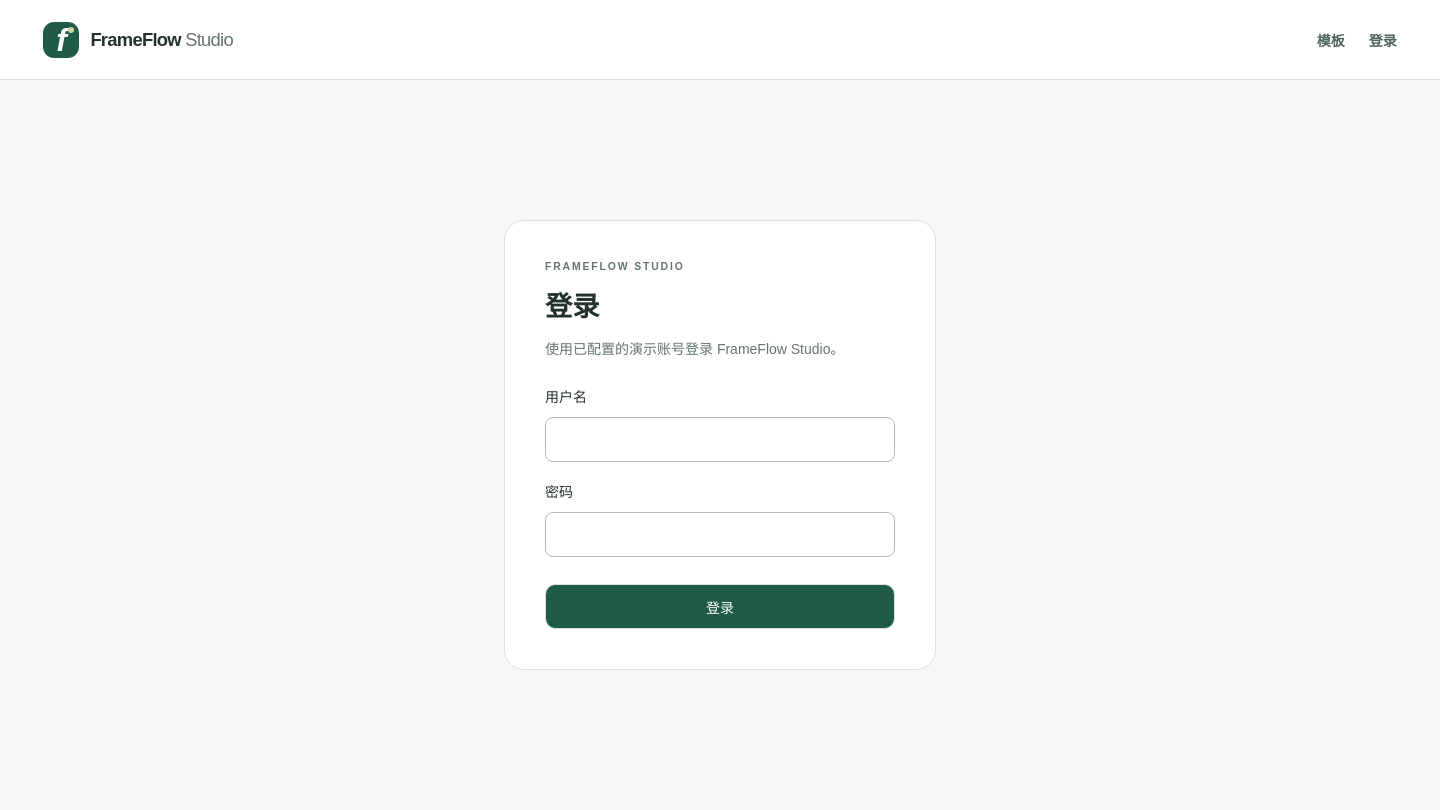
Test case: renders labelled login fields, serializes encoded credentials, clears password, and shows account/logout
Expected: the button "登录" is enabled, [545,584,895,629]
Type "demo-a" into the field labelled "用户名" at (720, 440), box [545,417,895,462]
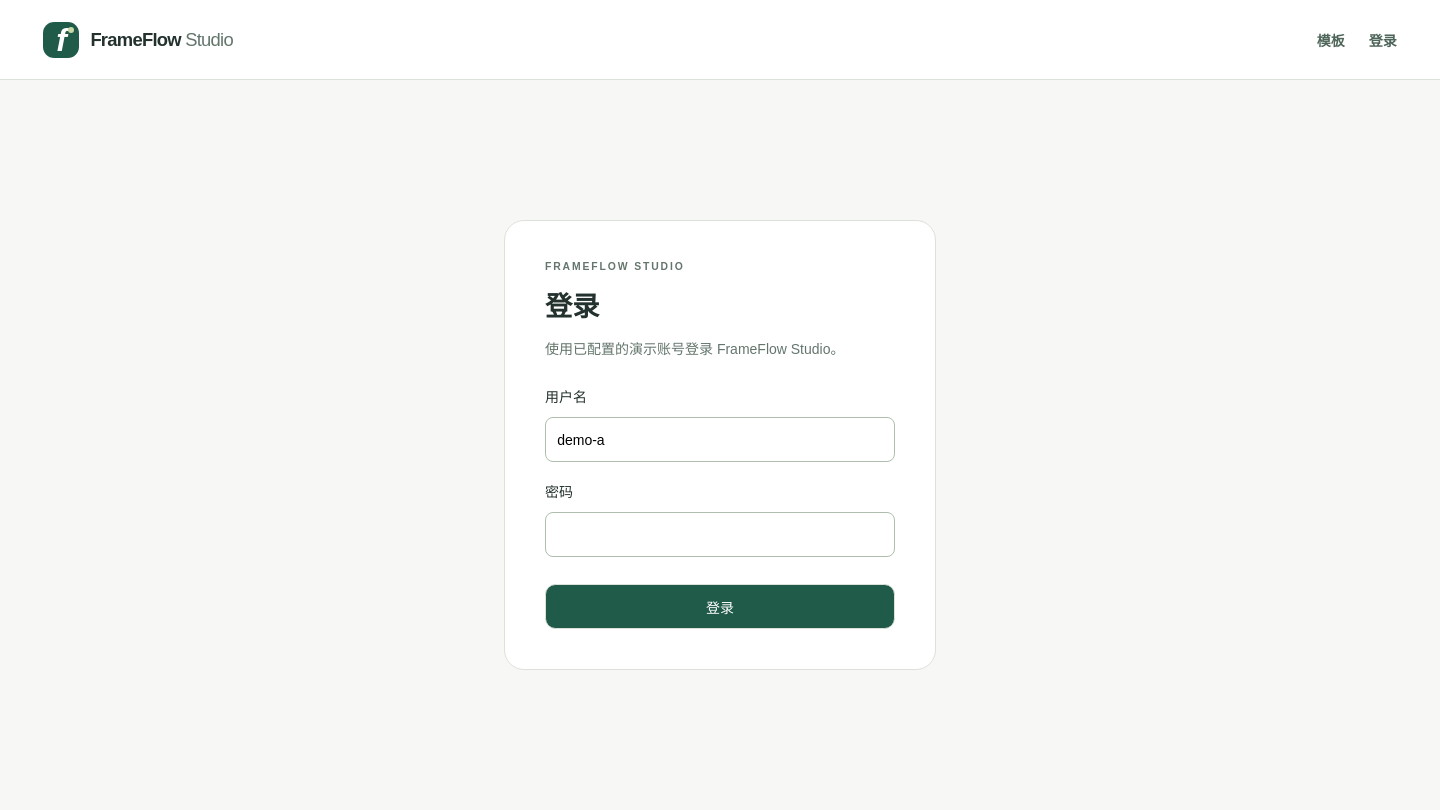
Type "测试 +& password" into the password field labelled "密码" at (720, 535), box [545,512,895,557]
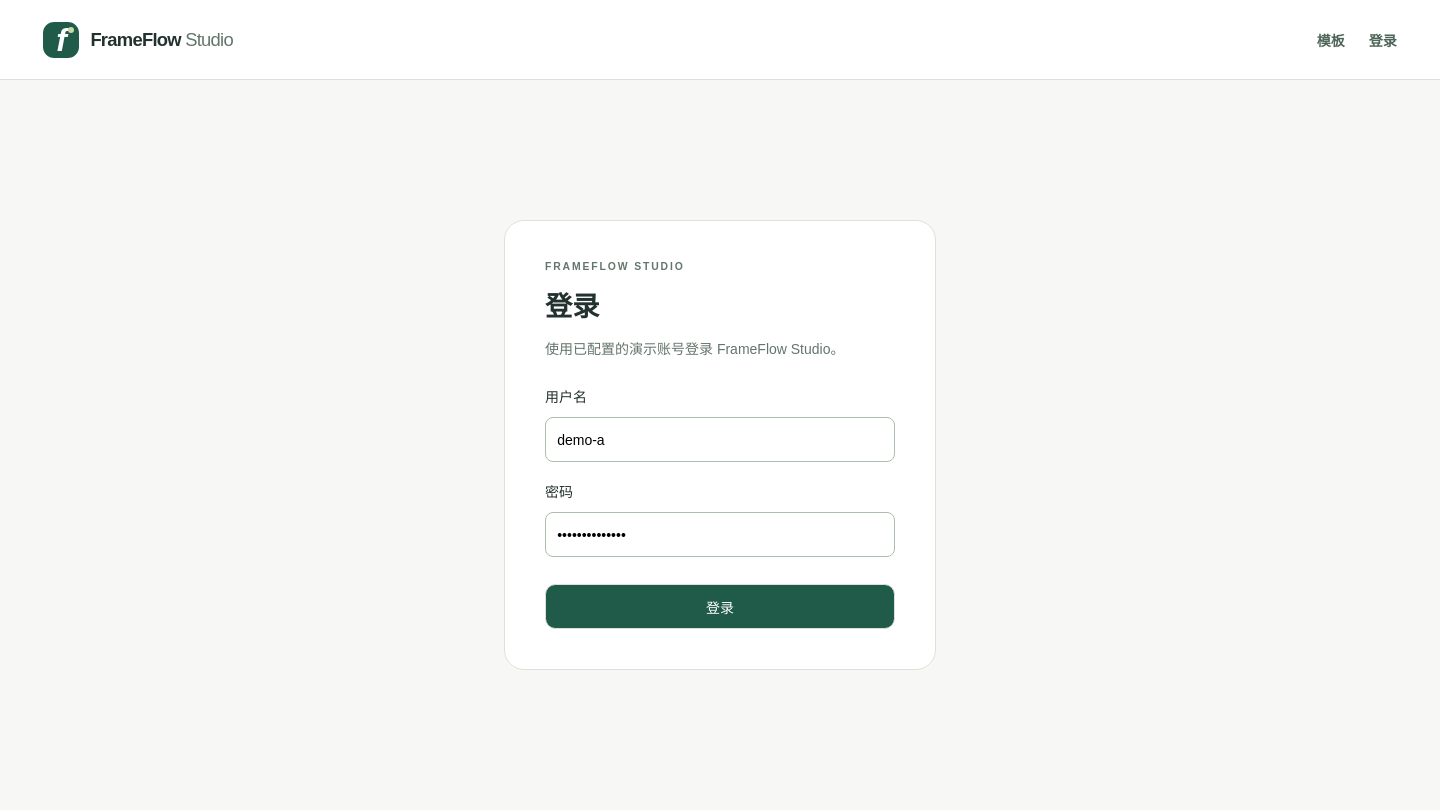
Click the button "登录" at (720, 607), box [545,584,895,629]
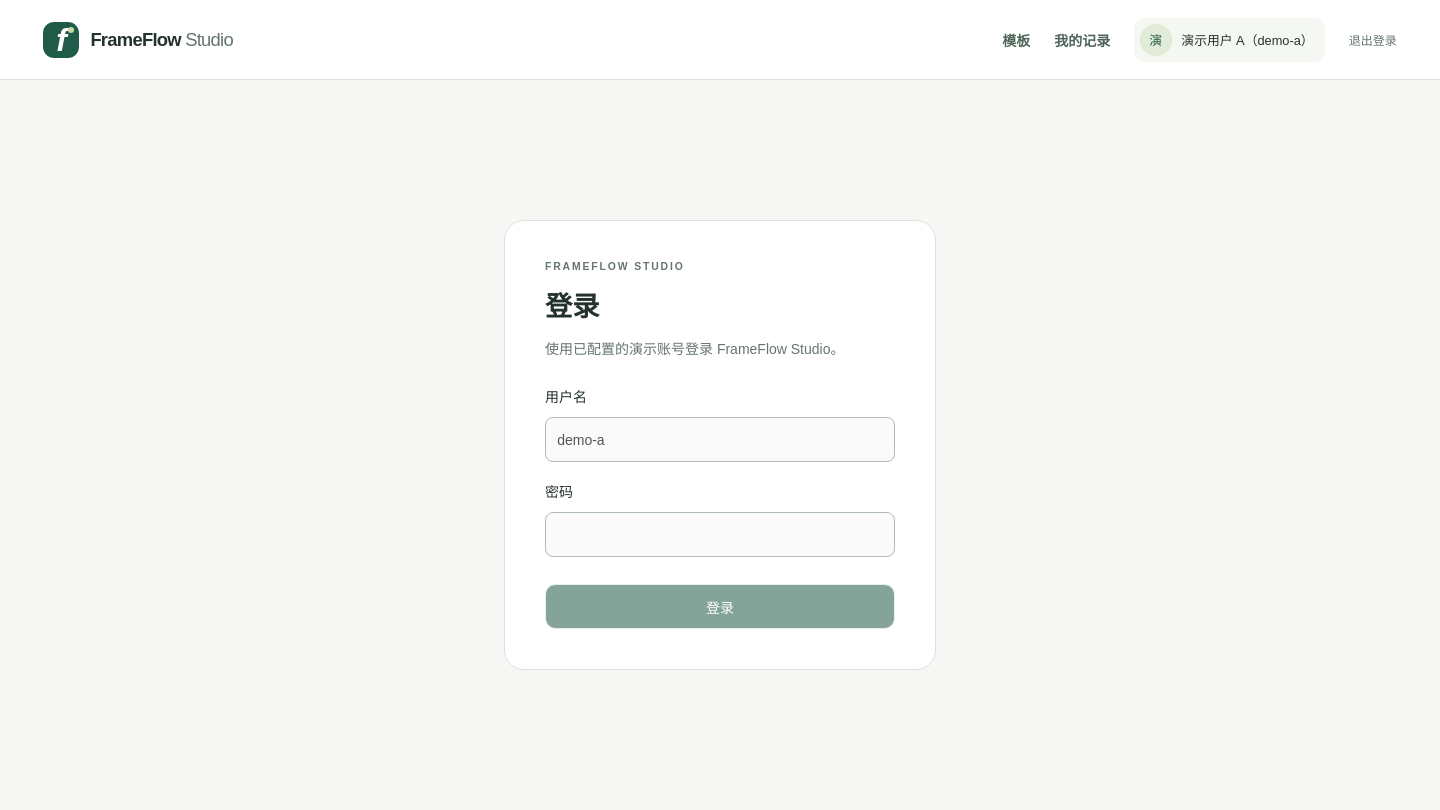
Expected: the text "演示用户 A（demo-a）" is shown, [1181,30,1314,49]
Expected: the password field labelled "密码" is empty, [545,512,895,557]
Click the button "退出登录" at (1373, 40), box [1349,18,1397,62]
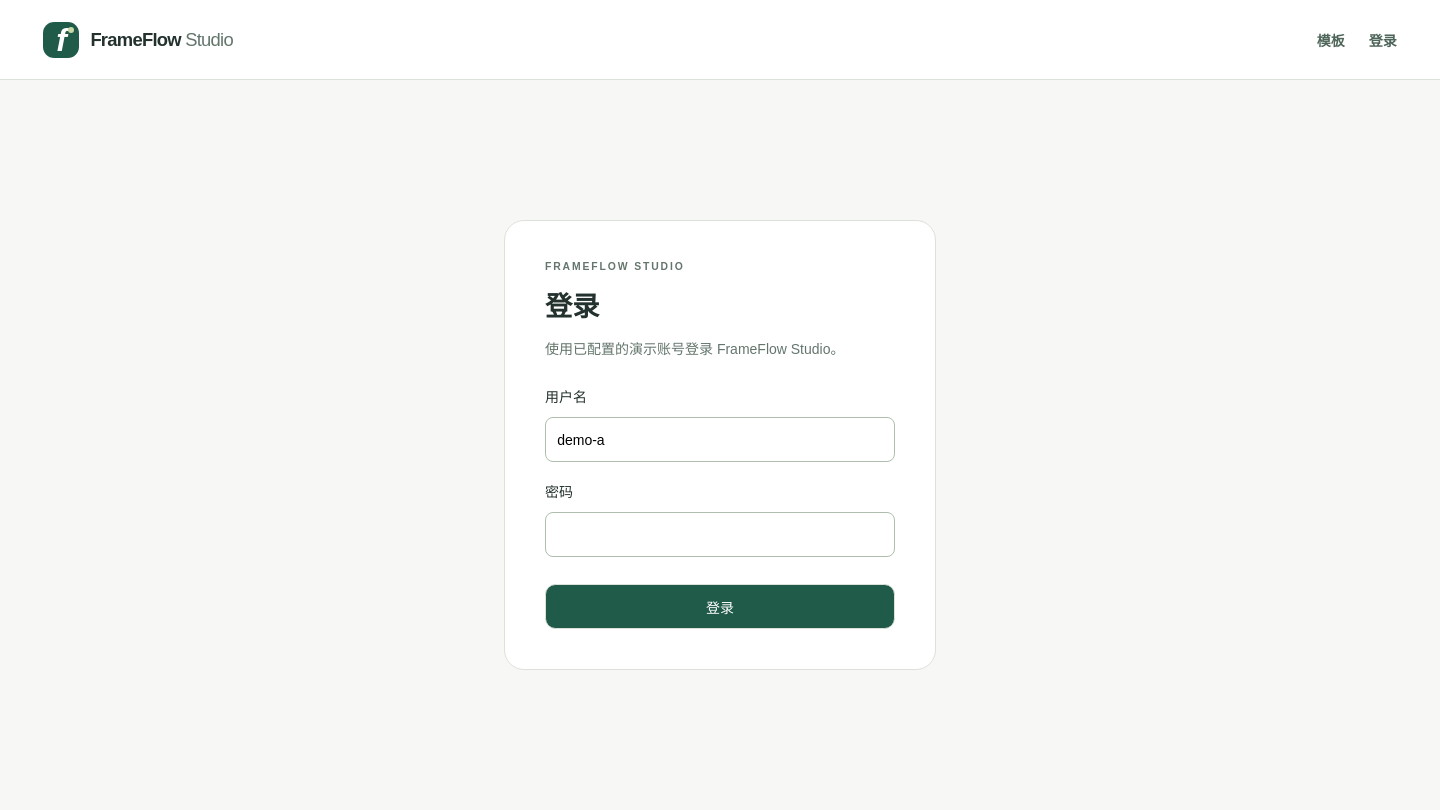
Expected: the button "登录" is enabled, [545,584,895,629]
Expected: the button "演示用户 A（demo-a）" is gone
